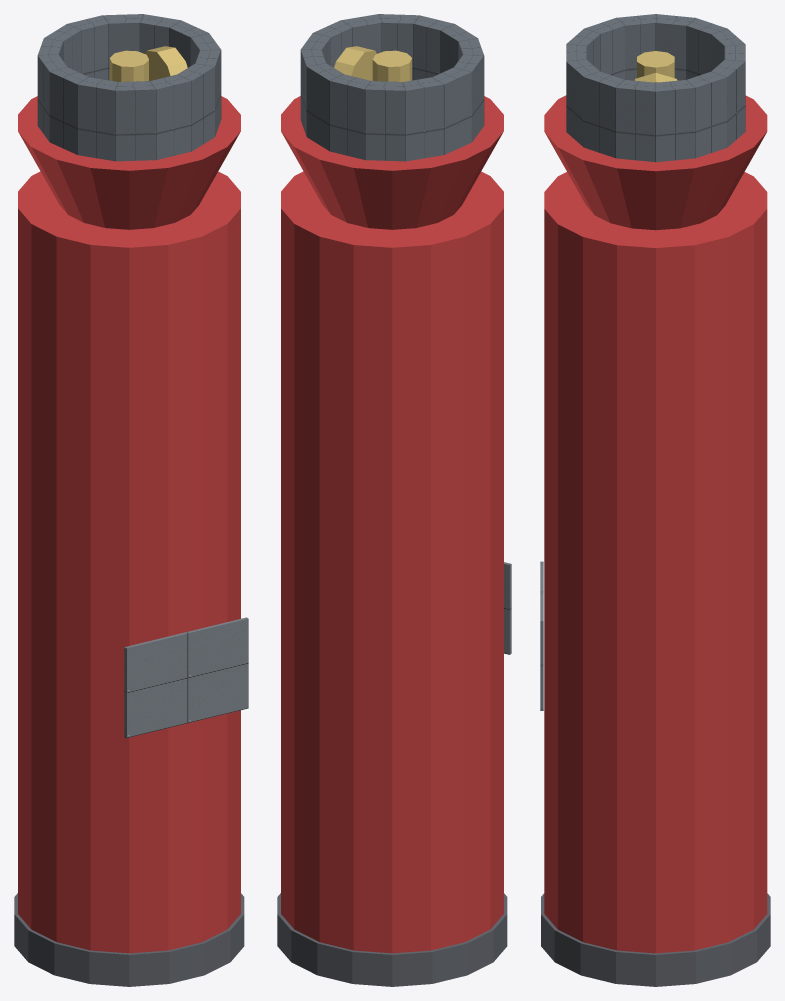
File: fire-and-emergency-services-gas-cylinder-da420c91__29938.glb
The picture shows the model from 3 angles, left to right: view 1: azimuth 30°, elevation 25°; view 2: azimuth 150°, elevation 25°; view 3: azimuth 270°, elevation 25°; orthographic projection.
Visible parts, largest first — view 1: gas-cylinder; view 2: gas-cylinder; view 3: gas-cylinder.
Part boxes in pixels (x1,y1,x2,y2): gas-cylinder: (14,14,248,986); gas-cylinder: (277,14,511,986); gas-cylinder: (540,14,770,986).
Size of the model in its own units: 0.33 by 1.38 by 0.326.
Materials: 5 (2 with a texture image).
